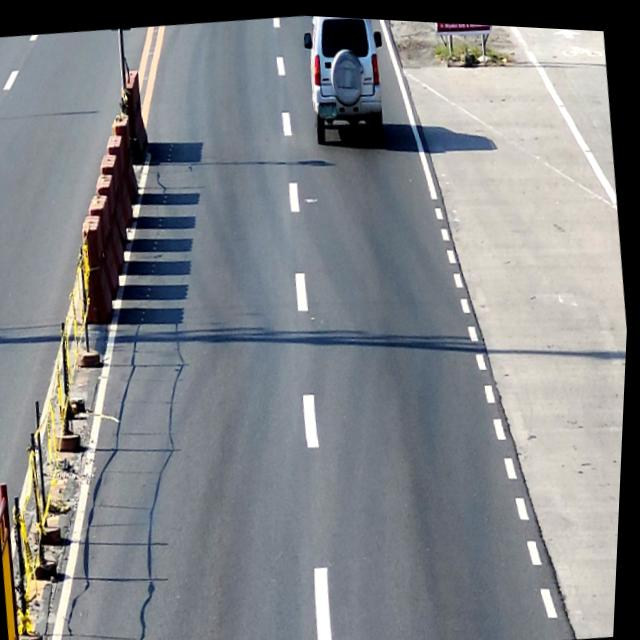Car: (295, 12, 395, 147)
License-Plate: (319, 99, 337, 114)
